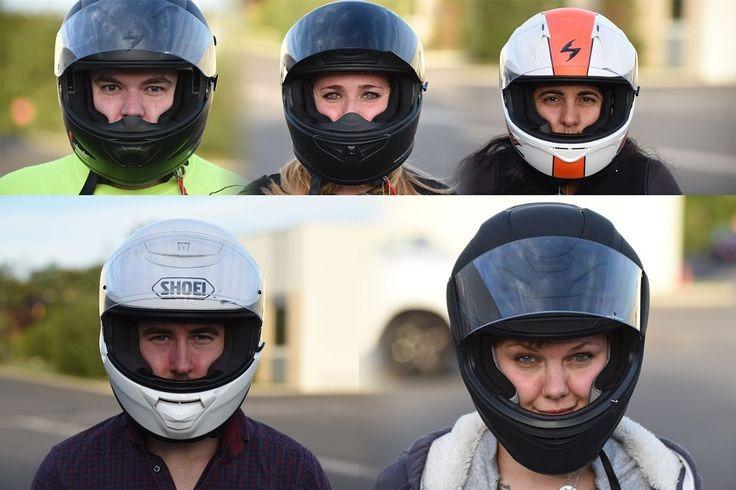helmet: (445, 202, 651, 477), (97, 217, 266, 443), (53, 0, 219, 187), (278, 0, 427, 186), (497, 7, 640, 183)
